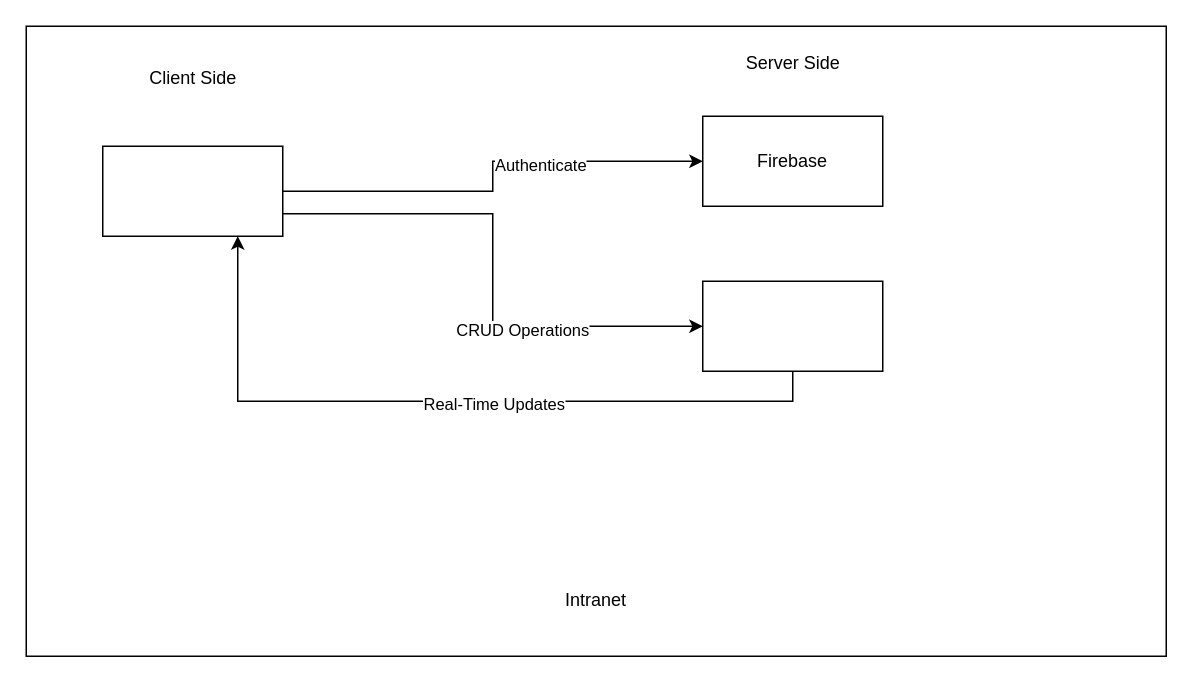
Some shapes in this 1193 by 683 pixel diagram are drawn without their labels. The shapes that lost their labels are listed below. From the top down, each one's centre as x and y in pixels, then its label:
pixel 192 190: User interface
pixel 792 325: Airtable
